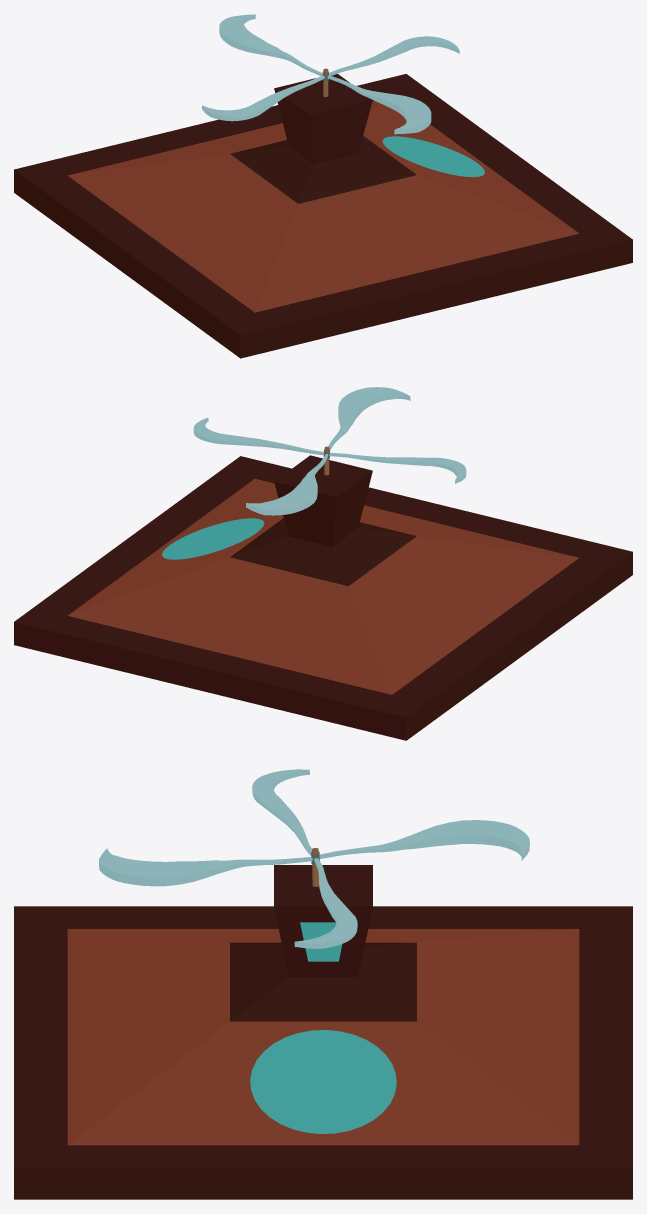
Rendered from LunarLanderLandingPlatform.glb.
3 renders of one model, top to bottom at view 1: azimuth 30°, elevation 25°; view 2: azimuth 150°, elevation 25°; view 3: azimuth 270°, elevation 25°, orthographic. The views are drawn at different scales.
Parts seen in each view (by area): view 1: Building.001, Building.002, Building.004, Building.005, Building.007, Building.006; view 2: Building.001, Building.002, Building.005, Building.004, Building.006, Building.007; view 3: Building.001, Building.002, Building.004, Building.005, Building.006, Building.007.
Boxes of the visible parts, <box> form: Building.001: <box>14,74,632,358</box>; Building.002: <box>382,136,484,177</box>; Building.004: <box>327,75,431,134</box>; Building.005: <box>219,14,322,75</box>; Building.007: <box>201,75,324,121</box>; Building.006: <box>329,36,459,75</box>; Building.001: <box>14,455,632,740</box>; Building.002: <box>162,518,264,559</box>; Building.005: <box>246,454,327,515</box>; Building.004: <box>328,387,410,450</box>; Building.006: <box>193,417,323,455</box>; Building.007: <box>329,452,466,483</box>; Building.001: <box>14,865,632,1199</box>; Building.002: <box>250,1030,396,1133</box>; Building.004: <box>99,848,312,886</box>; Building.005: <box>319,820,529,860</box>; Building.006: <box>294,858,357,948</box>; Building.007: <box>252,769,311,855</box>.
Size of the model in its own units: 7.07 by 2.79 by 7.07.
